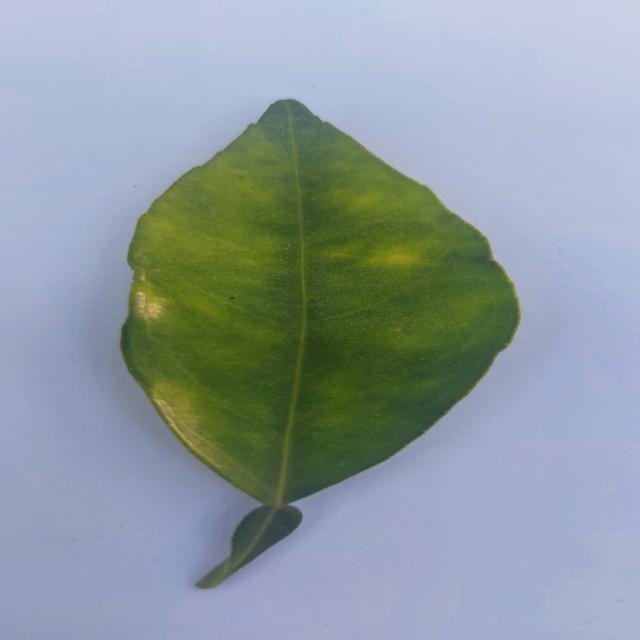greening: (121, 100, 519, 588)
